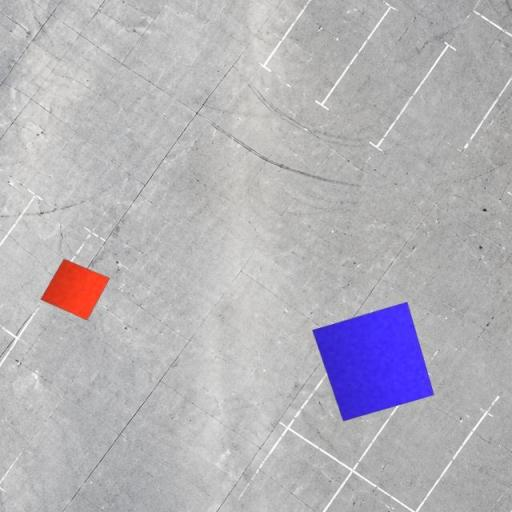BLUE_SQUARE: (312, 302, 434, 422)
RED_SQUARE: (40, 258, 110, 321)
